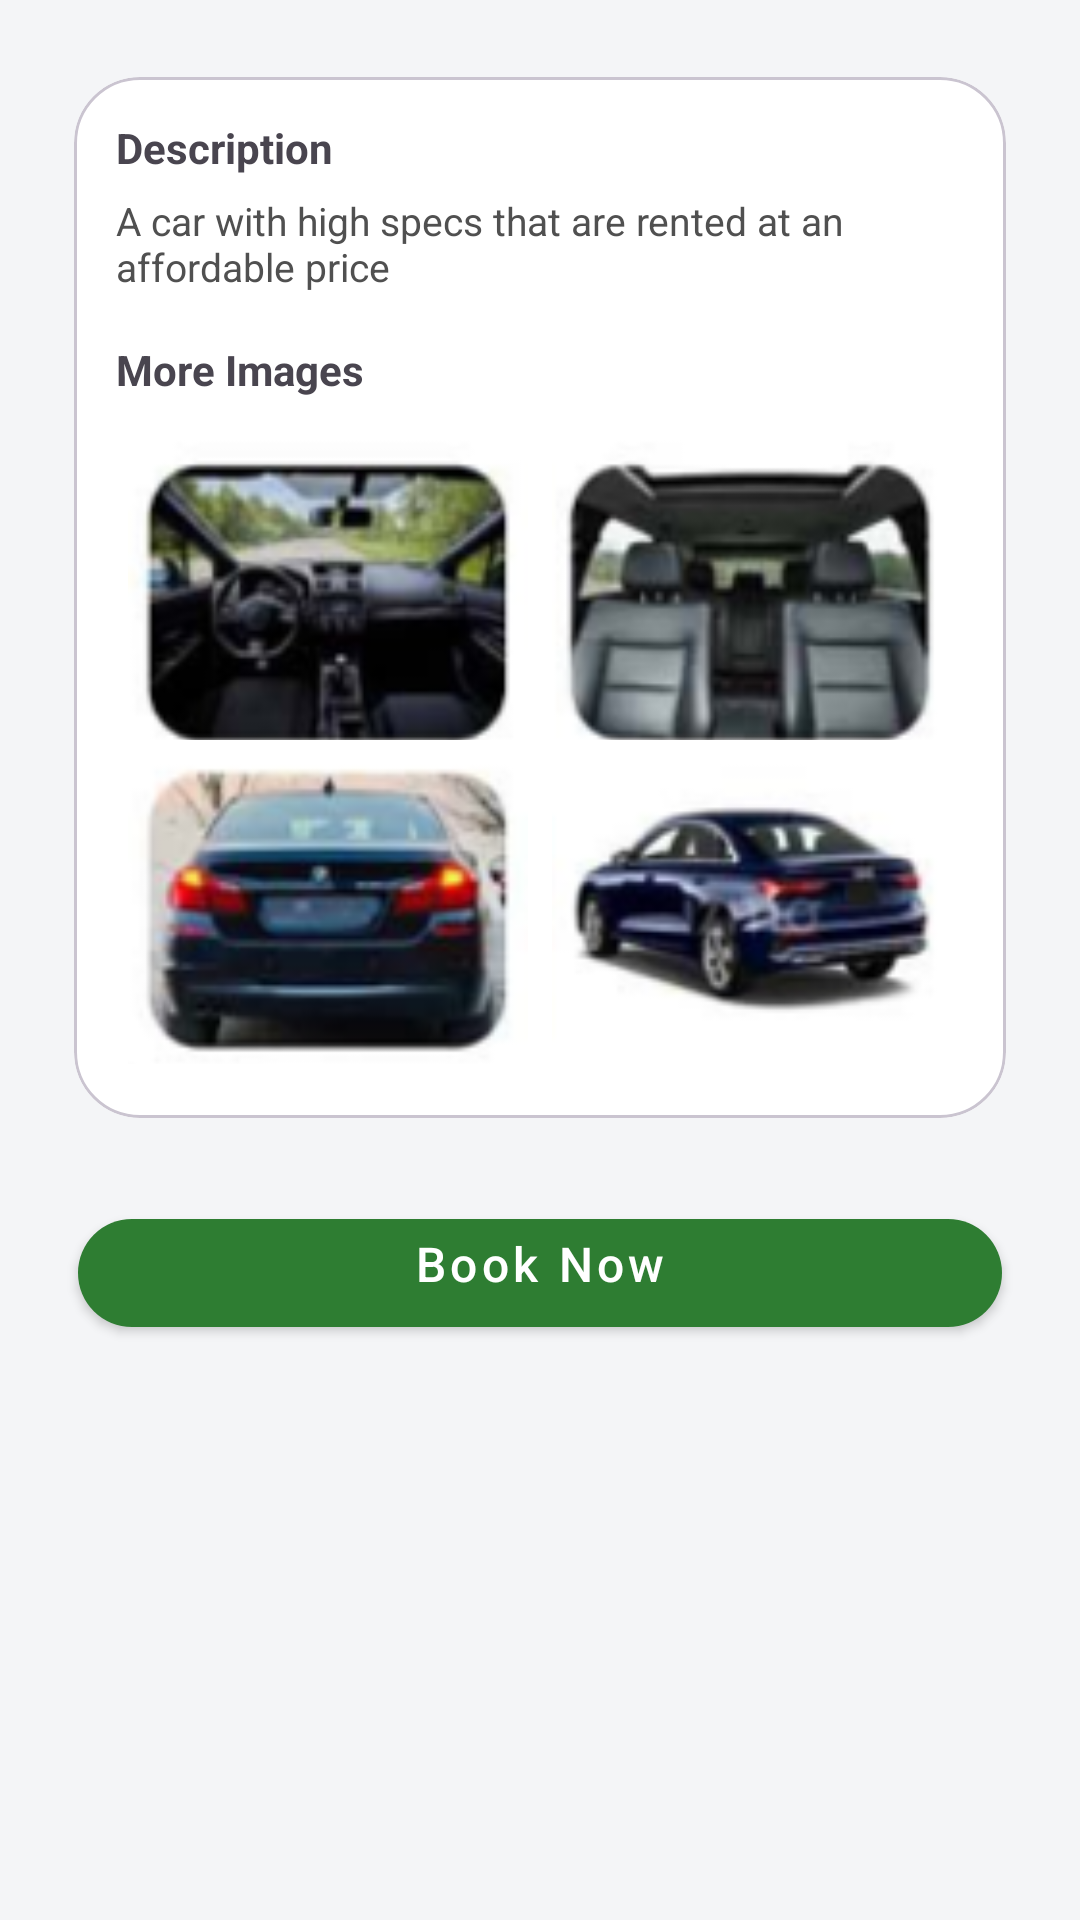

Point at icon controls on the screen. Image size 1080*1920, points as [x,y].
car: [751,908]
